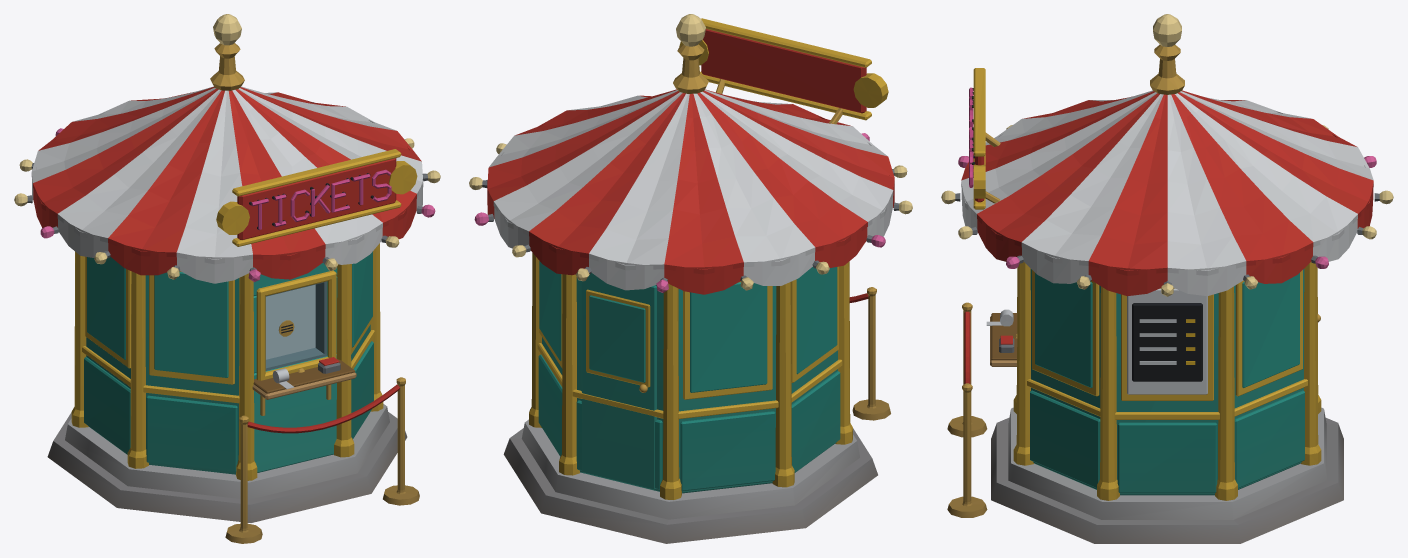
File: ticket-booth.glb
3 views of the same model, side by side, from view 1: azimuth 30°, elevation 25°; view 2: azimuth 150°, elevation 25°; view 3: azimuth 270°, elevation 25° (orthographic). The views are drawn at different scales.
Visible parts, largest first — view 1: ticket_booth; view 2: ticket_booth; view 3: ticket_booth.
Part boxes in pixels (x1,y1,x2,y2): ticket_booth: (14,14,440,543); ticket_booth: (469,14,912,543); ticket_booth: (941,14,1393,543).
Size of the model in its own units: 2.94 by 3.26 by 2.94.
